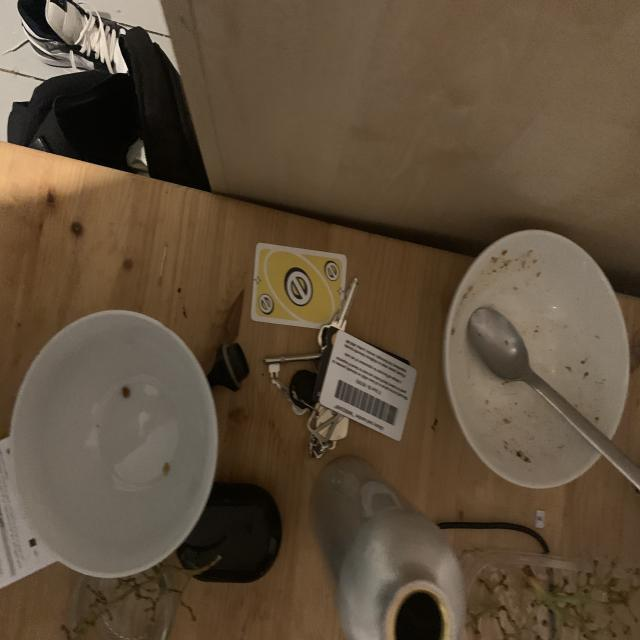lyellowskip-20: (256, 292, 280, 318)
